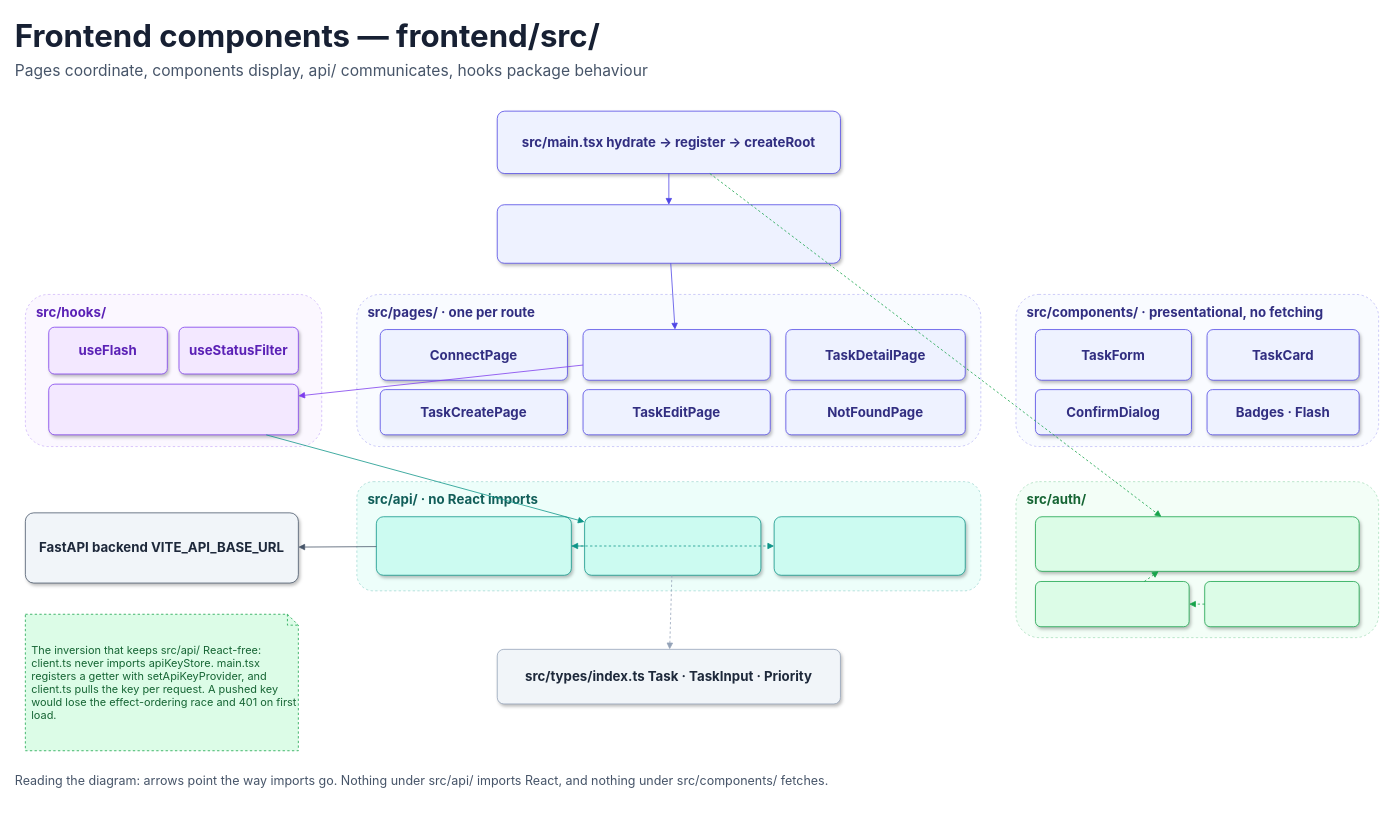
Image size: 1399x813. Some labels were removed from this diagram. The shapes that lost their labels are listed below. From the top down, each one's centre as x and y in pixels, then its label:
At (x=669, y=235): "src/App.tsx the route table".
At (x=677, y=356): "TaskListPage".
At (x=174, y=410): "useTaskList 6 reducer actions".
At (x=474, y=547): "api/client.ts the only fetch()".
At (x=673, y=547): "api/tasks.ts 6 endpoint wrappers".
At (x=870, y=547): "api/errors.ts ApiClientError".
At (x=1198, y=545): "auth/apiKeyStore.ts observable store · no React".
At (x=1113, y=605): "ApiKeyContext useSyncExternalStore".
At (x=1282, y=605): "ProtectedRoute".
